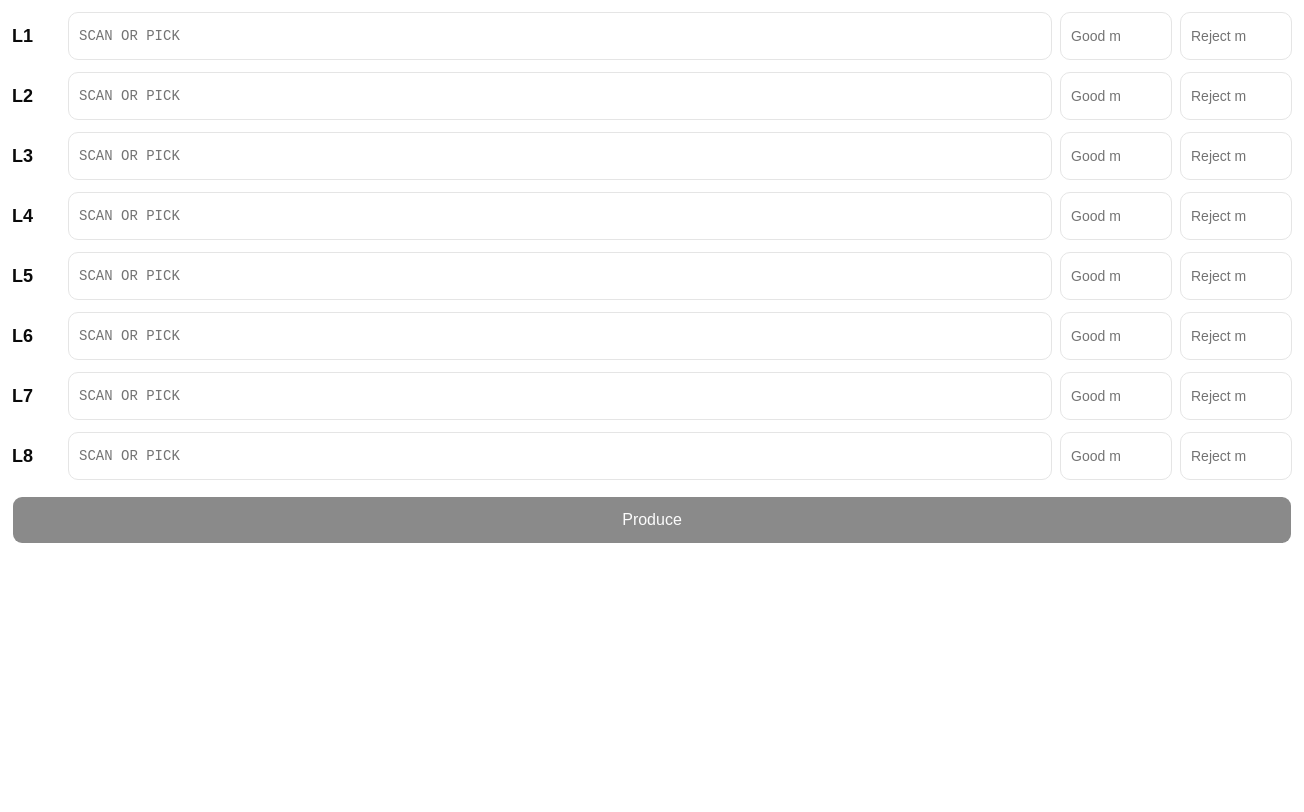
Scenario: SlittingGrid › flags good qty without carrier and disables submit
Type "100" into the number field named "Lane 1 good m". click: (1116,36)
box: [1060,12,1172,60]
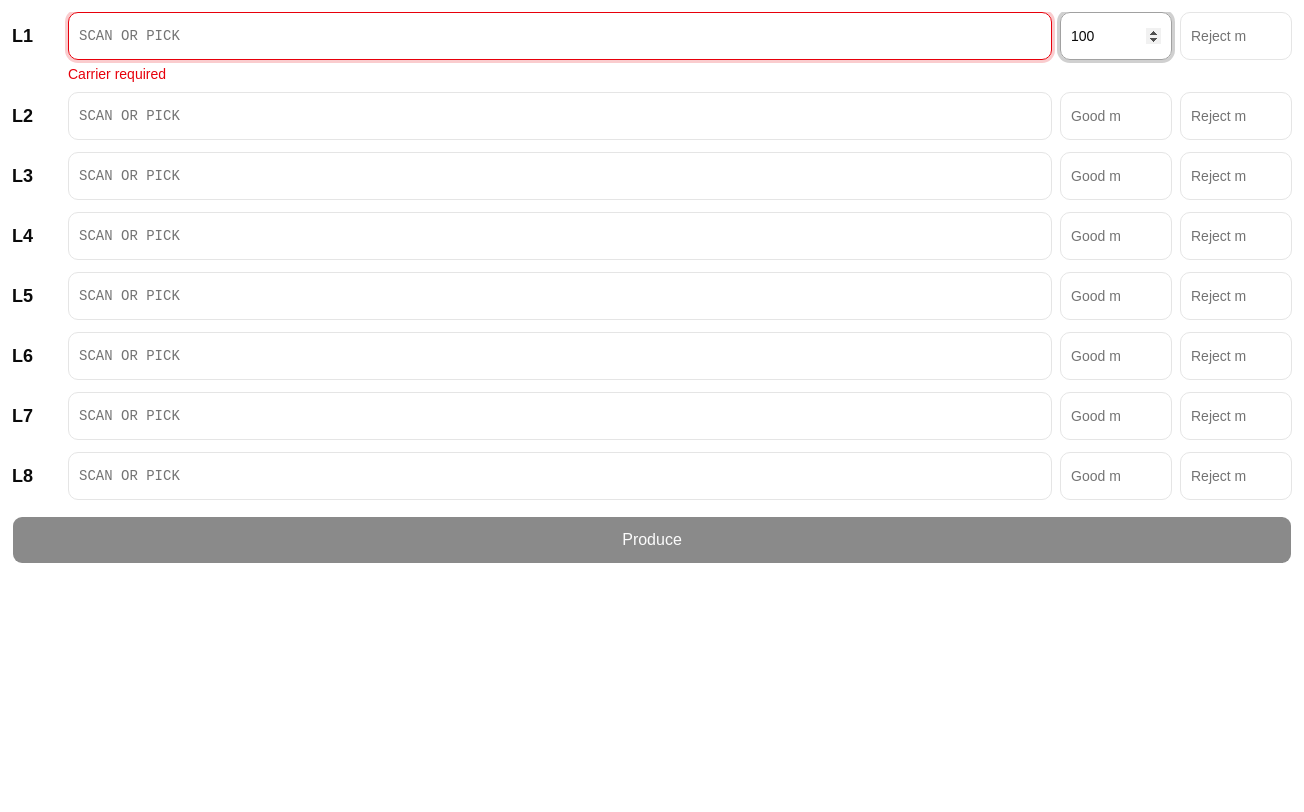
Expected: the button "Produce" is disabled, [12,516,1292,564]
Result: the text "Carrier required" is shown at [68,66,166,82]
